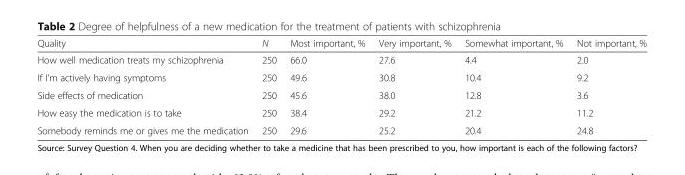table: (36, 37, 645, 135)
table column: (36, 37, 254, 135), (457, 37, 569, 135), (282, 37, 371, 135), (371, 37, 457, 135), (569, 37, 645, 135), (254, 37, 282, 135)
table column header: (36, 37, 645, 51)
table row: (36, 85, 645, 103), (36, 103, 645, 121), (36, 51, 645, 68), (36, 68, 645, 85), (36, 37, 645, 51), (36, 121, 645, 135)
